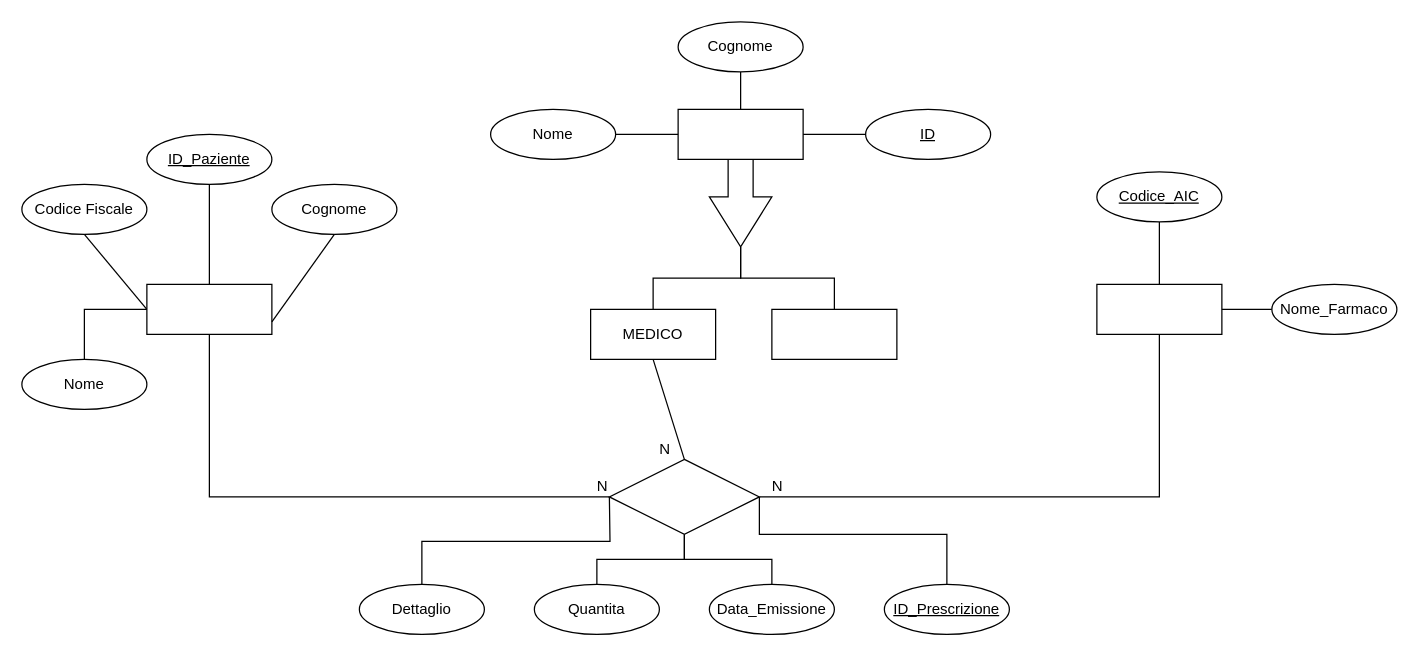
Image size: 1419x656. Some labels were removed from this diagram. Each missing label, with the centre of its shape:
FARMACO: the point at 1159,308
INFERMIERE: the point at 834,333
PAZIENTE: the point at 209,308
PERSONALE MEDICO: the point at 740,133
Prescrizione: the point at 683,496
